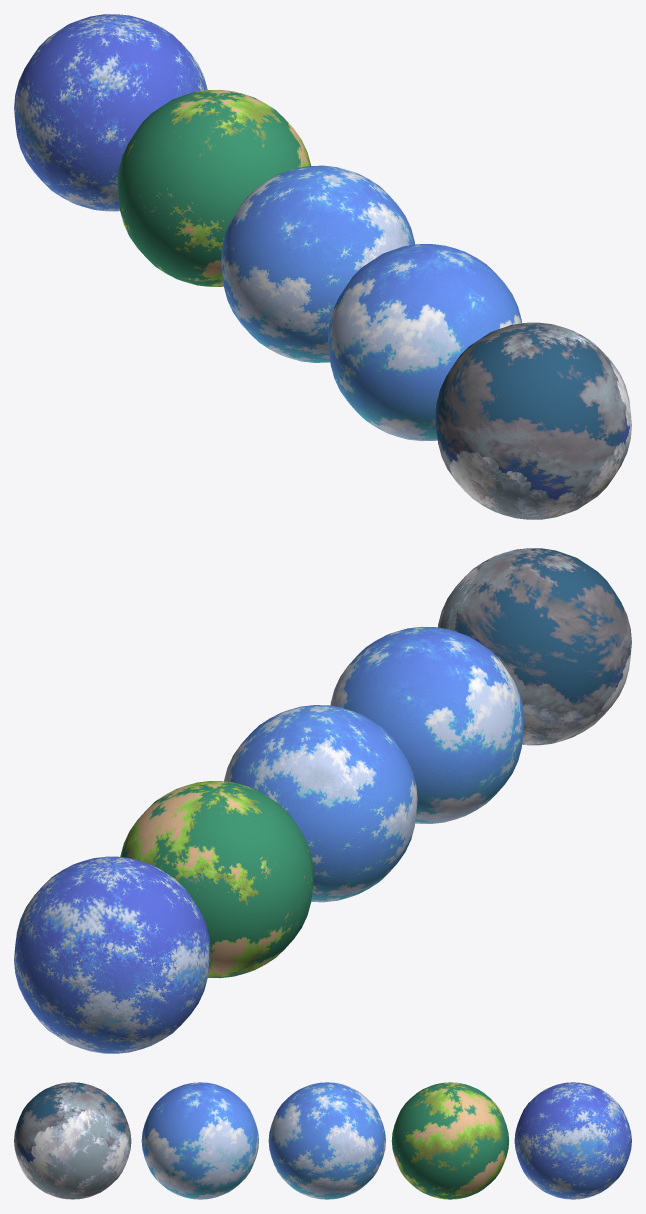
Rendered from PSX_-_5_Skybox_Pack_I.glb.
3 views of the same model, one above another, from view 1: azimuth 30°, elevation 25°; view 2: azimuth 150°, elevation 25°; view 3: azimuth 270°, elevation 25° (orthographic). The views are drawn at different scales.
Parts seen in each view (by area): view 1: SkyPack2_1_lambert3_0, SkyPack2_2_lambert4_0, SkyPack2_3_lambert5_0, SkyPack2_4_lambert6_0, SkyPack2_5_lambert8_0; view 2: SkyPack2_5_lambert8_0, SkyPack2_1_lambert3_0, SkyPack2_2_lambert4_0, SkyPack2_3_lambert5_0, SkyPack2_4_lambert6_0; view 3: SkyPack2_2_lambert4_0, SkyPack2_4_lambert6_0, SkyPack2_3_lambert5_0, SkyPack2_1_lambert3_0, SkyPack2_5_lambert8_0.
Part boxes in pixels (box(x1,y1,x2,y2)): SkyPack2_1_lambert3_0: box(435, 322, 631, 519); SkyPack2_2_lambert4_0: box(328, 244, 521, 441); SkyPack2_3_lambert5_0: box(221, 165, 414, 362); SkyPack2_4_lambert6_0: box(117, 89, 310, 286); SkyPack2_5_lambert8_0: box(14, 14, 207, 211); SkyPack2_5_lambert8_0: box(14, 856, 210, 1053); SkyPack2_1_lambert3_0: box(437, 548, 631, 745); SkyPack2_2_lambert4_0: box(330, 626, 524, 823); SkyPack2_3_lambert5_0: box(224, 705, 417, 902); SkyPack2_4_lambert6_0: box(120, 781, 313, 978); SkyPack2_2_lambert4_0: box(141, 1082, 258, 1199); SkyPack2_4_lambert6_0: box(391, 1082, 509, 1199); SkyPack2_3_lambert5_0: box(268, 1082, 385, 1199); SkyPack2_1_lambert3_0: box(14, 1082, 131, 1199); SkyPack2_5_lambert8_0: box(514, 1082, 631, 1199).
Bounding box in the file's own units: 1.64 × 1.64 × 8.62.
5 materials, 5 textured.
